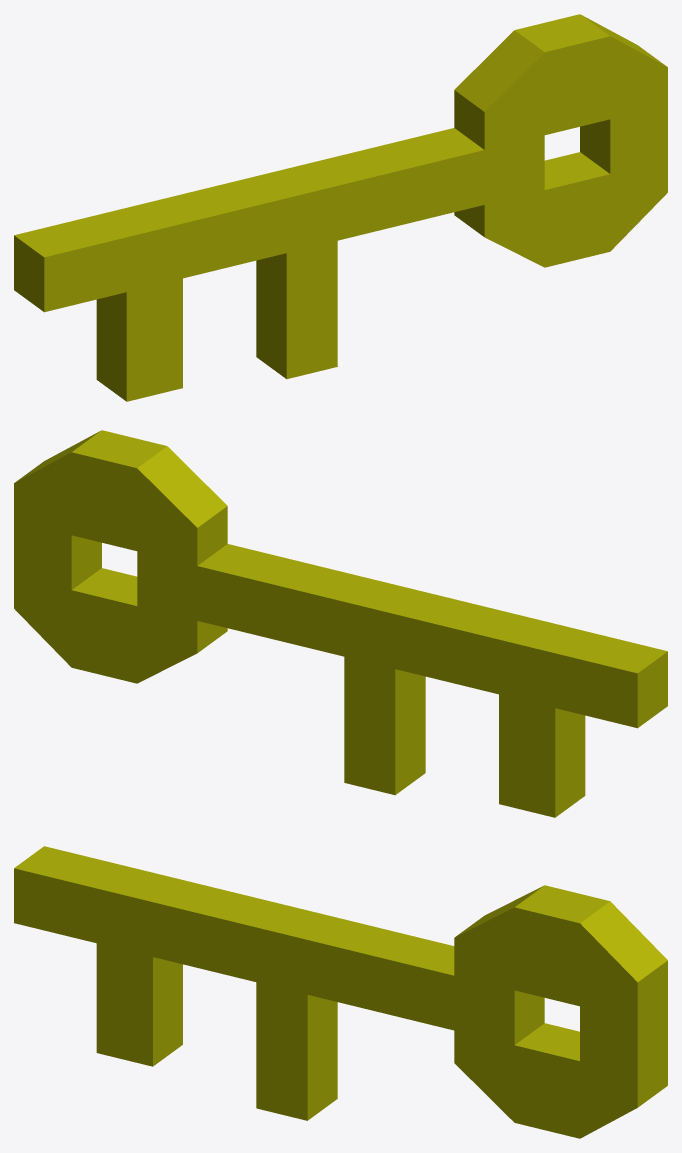
File: key.obj
3 views of the same model, one above another, from view 1: azimuth 30°, elevation 25°; view 2: azimuth 150°, elevation 25°; view 3: azimuth 330°, elevation 25° (orthographic).
Parts seen in each view (by area): view 1: simpleKey; view 2: simpleKey; view 3: simpleKey.
Boxes of the visible parts, box(x1,y1,x2,y2) form: simpleKey: box(14, 14, 667, 401); simpleKey: box(14, 430, 667, 817); simpleKey: box(14, 846, 667, 1138).
Size of the model in its own units: 1.19 by 0.4814 by 0.1.
